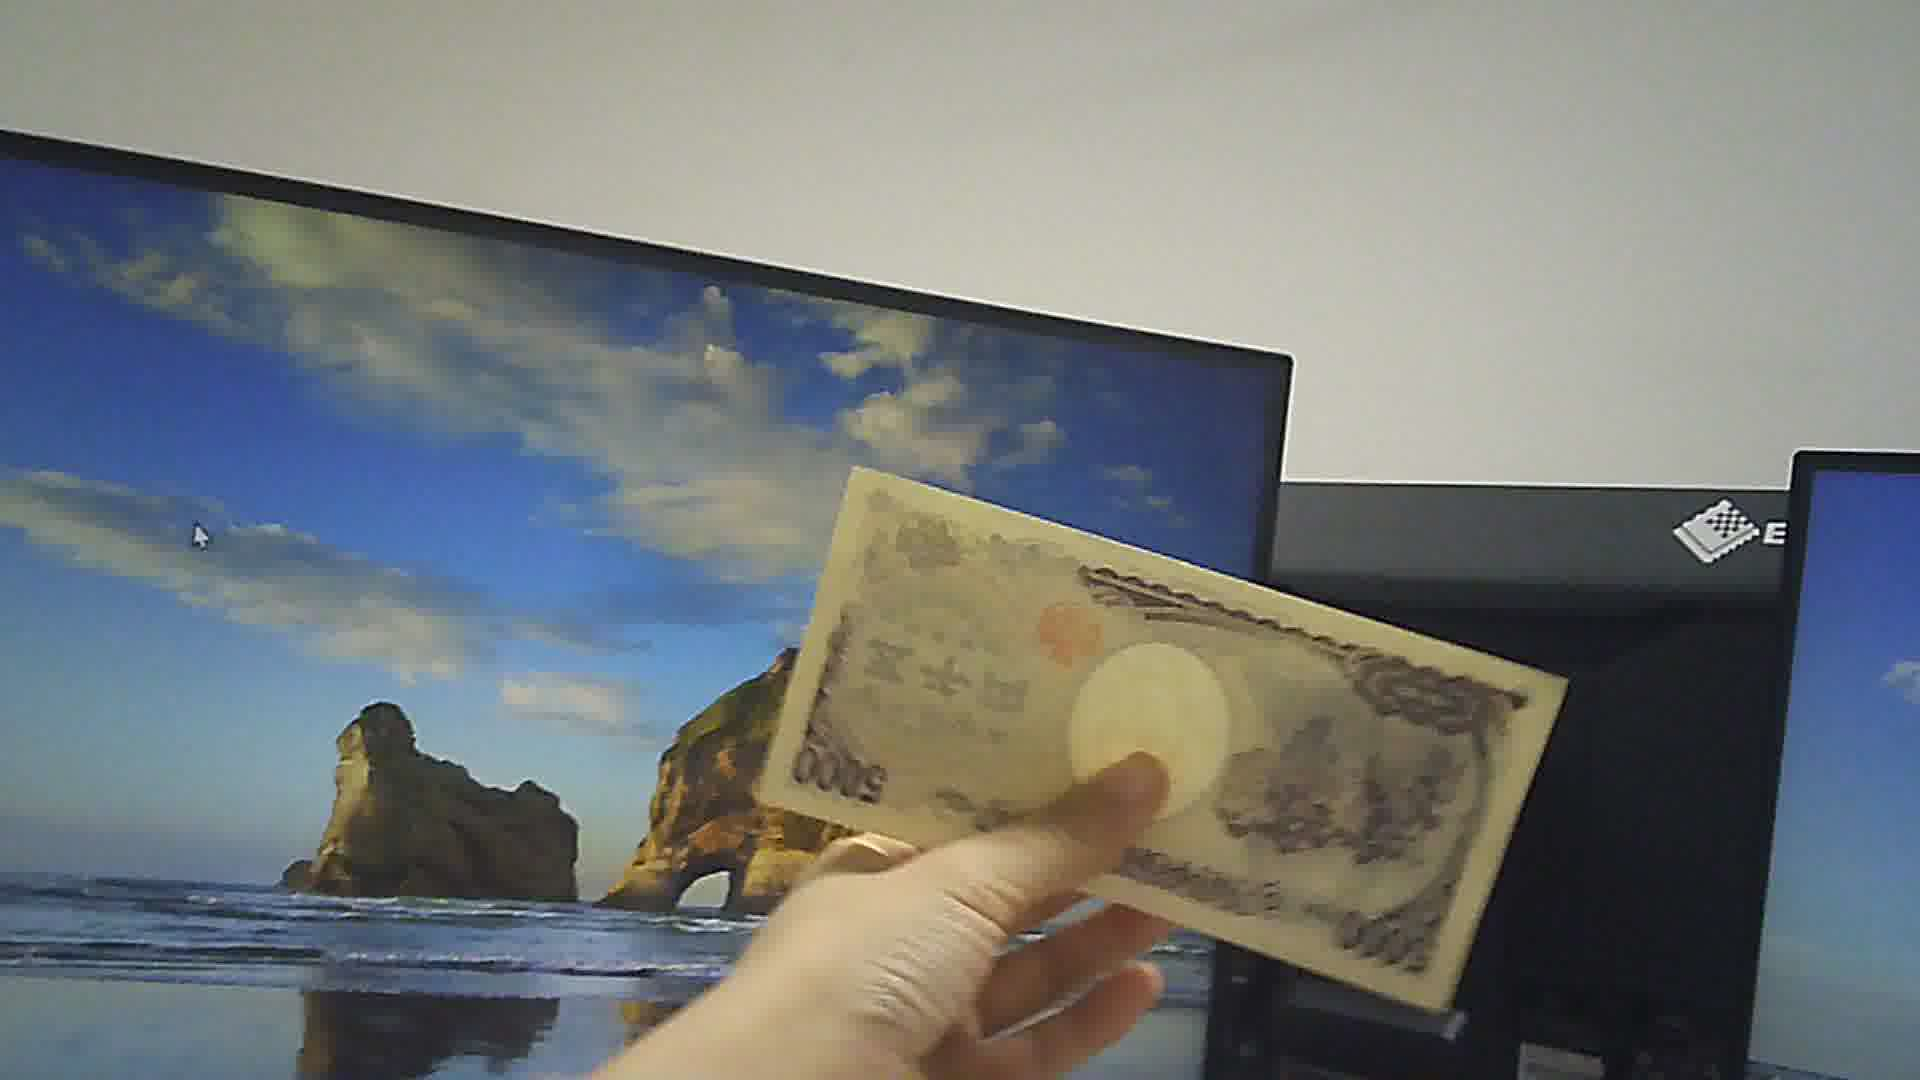5,000 Yen: (770, 464, 1513, 1036)
